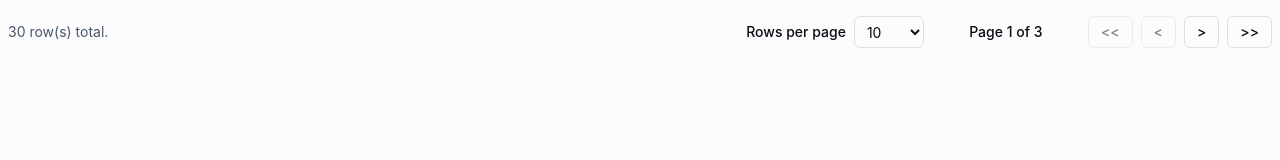
TablePagination › navigation buttons › navigates to next page
Expected: the text "Page 1 of 3" is shown, [969, 23, 1042, 40]
Click the button ">". click: point(1202, 32)
box: [1184, 16, 1219, 48]
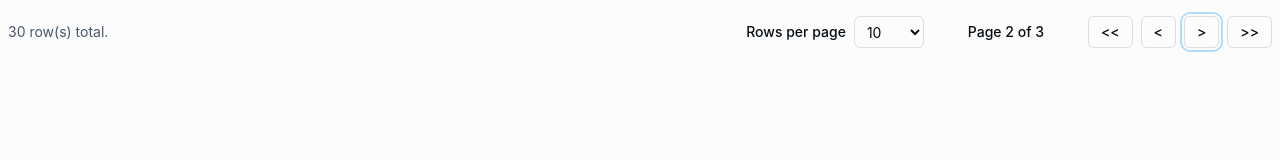
Expected: the text "Page 2 of 3" is shown, [968, 23, 1044, 40]
